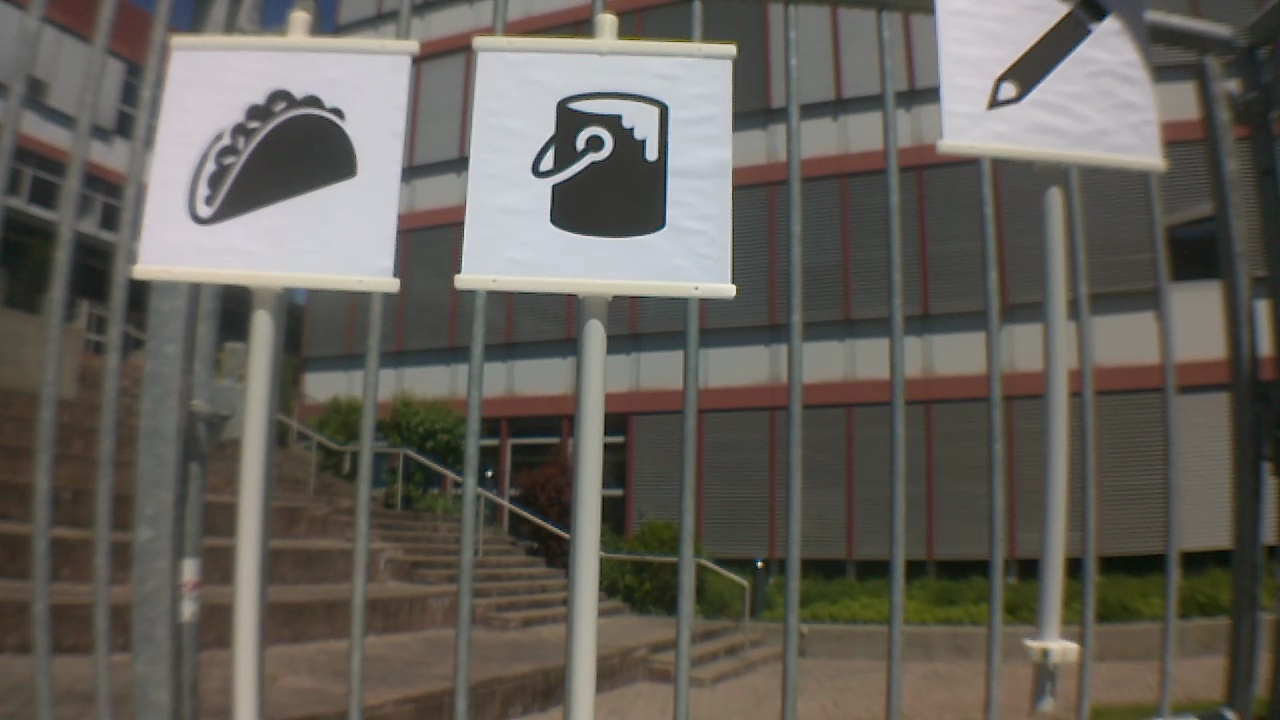bucket: (515, 91, 677, 242)
pencil: (982, 0, 1127, 110)
taco: (176, 86, 370, 231)
